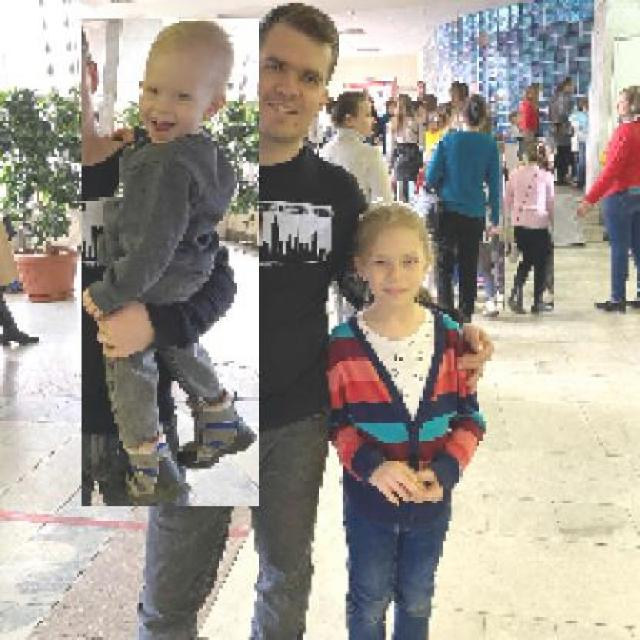child: (80, 19, 260, 508), (322, 200, 495, 637), (503, 137, 554, 314)
